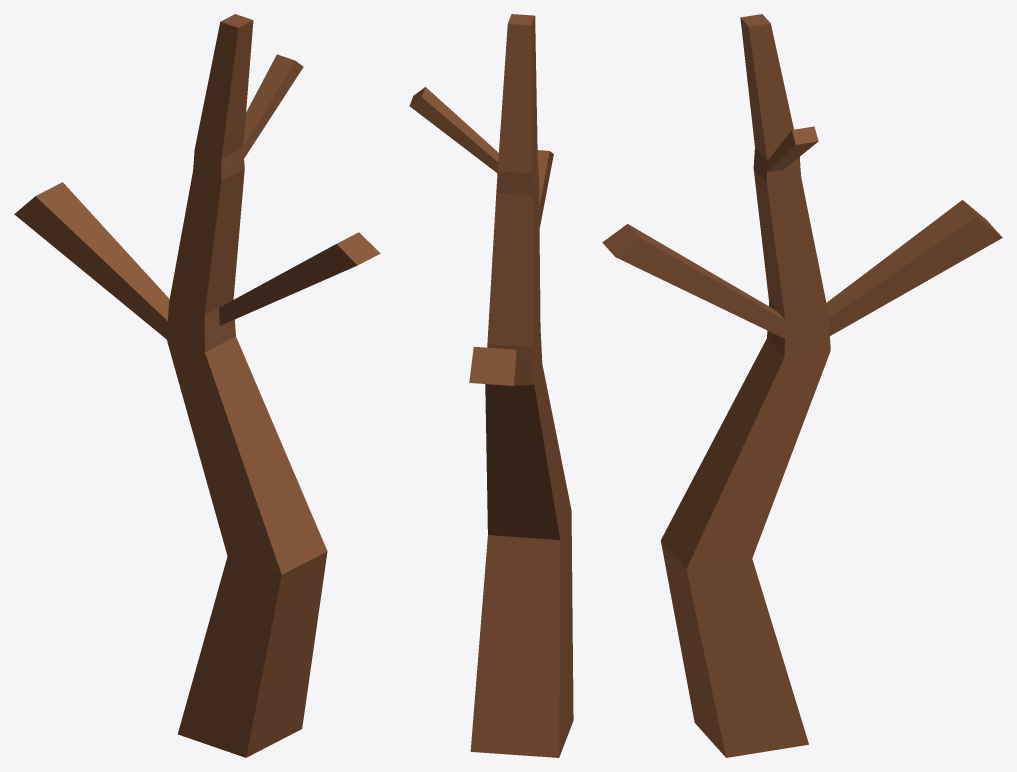
The model's file is Trunk_v02.fbx.
The picture shows the model from 3 angles, left to right: view 1: azimuth 30°, elevation 25°; view 2: azimuth 150°, elevation 25°; view 3: azimuth 270°, elevation 25°; orthographic projection.
Visible parts, largest first — view 1: Trunk_v02; view 2: Trunk_v02; view 3: Trunk_v02.
Boxes of the visible parts, bbox=[...] form: Trunk_v02: bbox=[14, 14, 380, 757]; Trunk_v02: bbox=[409, 14, 573, 757]; Trunk_v02: bbox=[602, 14, 1002, 757].
Size of the model in its own units: 10.67 by 37.21 by 18.96.
Materials: 1 (1 with a texture image).
